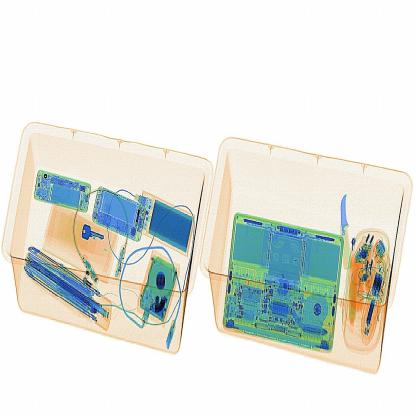wrench: (335, 186, 363, 288)
